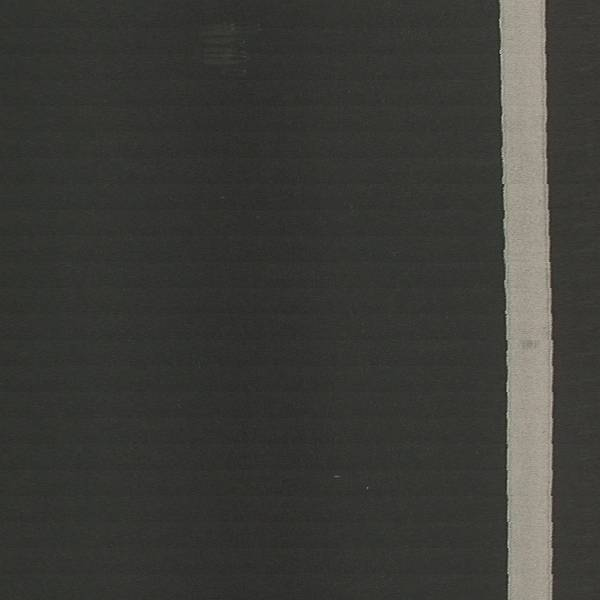road_damage: (195, 15, 268, 86)
